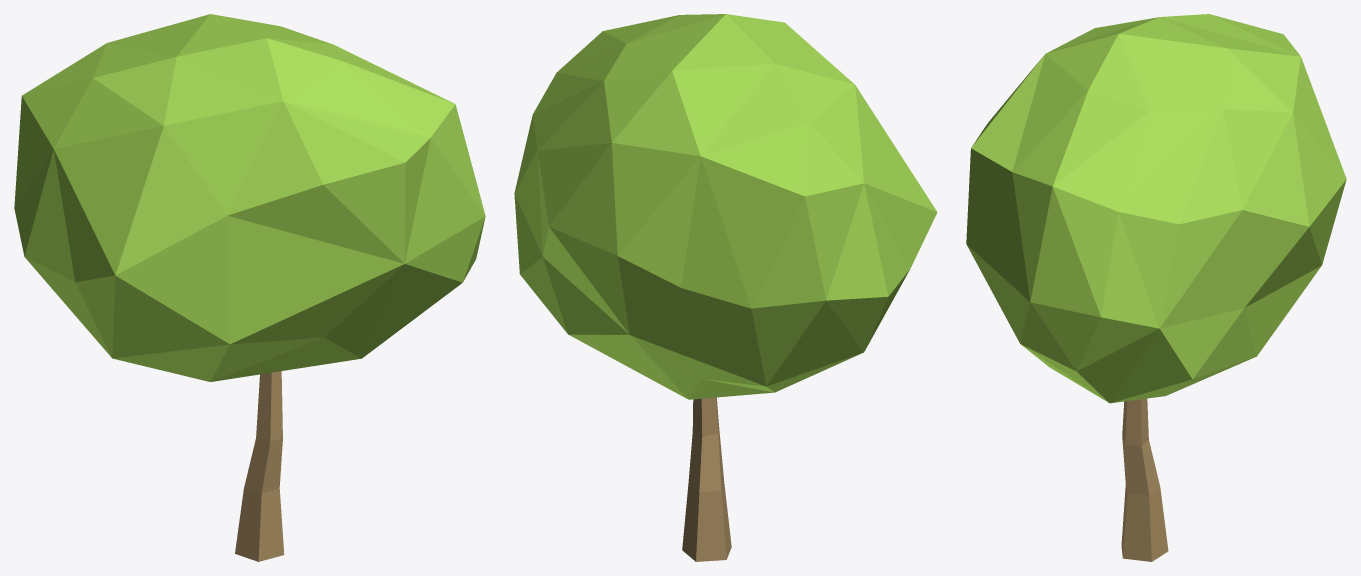
The model's file is Apple_Tree_m_02_LOD.fbx.
The picture shows the model from 3 angles, left to right: view 1: azimuth 30°, elevation 25°; view 2: azimuth 150°, elevation 25°; view 3: azimuth 270°, elevation 25°; orthographic projection. The views are drawn at different scales.
Parts seen in each view (by area): view 1: Apple_Tree_m_02_LOD0; view 2: Apple_Tree_m_02_LOD0; view 3: Apple_Tree_m_02_LOD0.
Part boxes in pixels (bbox=[...]): Apple_Tree_m_02_LOD0: bbox=[14, 14, 485, 561]; Apple_Tree_m_02_LOD0: bbox=[514, 14, 937, 561]; Apple_Tree_m_02_LOD0: bbox=[966, 14, 1346, 561].
Size of what is drawn, in the model's own units: 513 by 636 by 426.
